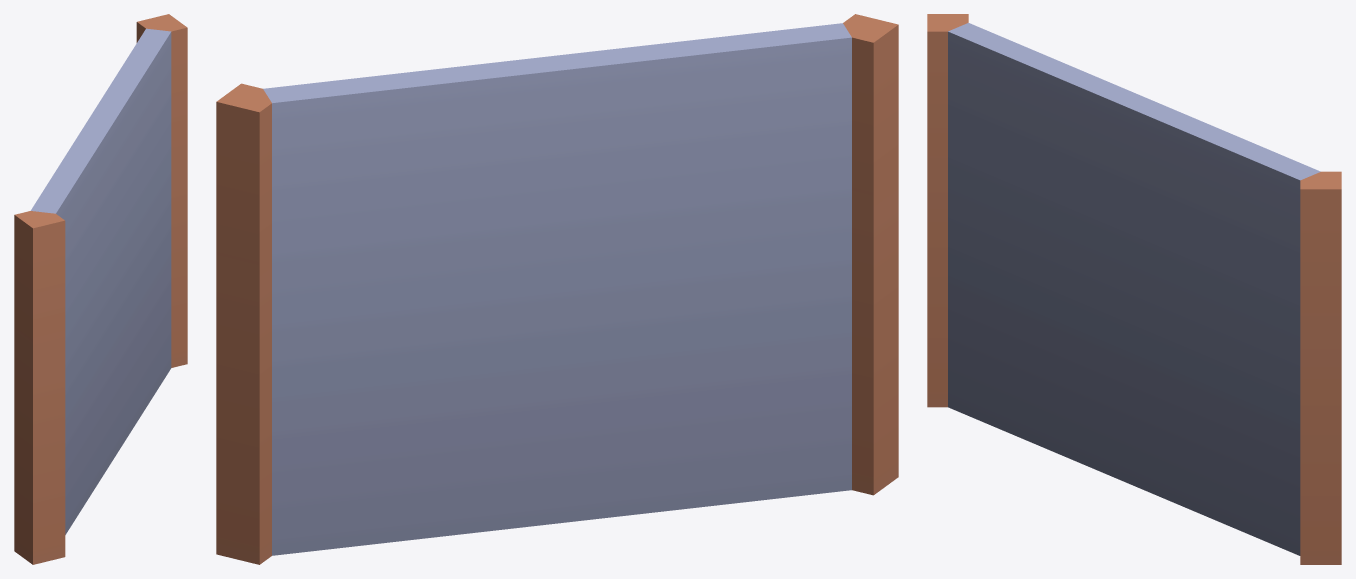
File: wall-diagonal.glb
3 views of the same model, side by side, from view 1: azimuth 30°, elevation 25°; view 2: azimuth 150°, elevation 25°; view 3: azimuth 270°, elevation 25° (orthographic). The views are drawn at different scales.
Parts seen in each view (by area): view 1: wall-diagonal; view 2: wall-diagonal; view 3: wall-diagonal.
Boxes of the visible parts, x1,y1,x2,y2 form: wall-diagonal: (14,14,187,564); wall-diagonal: (216,14,898,564); wall-diagonal: (927,14,1341,564).
Bounding box in the file's own units: 1 × 1 × 1.
1 material, 1 textured.
